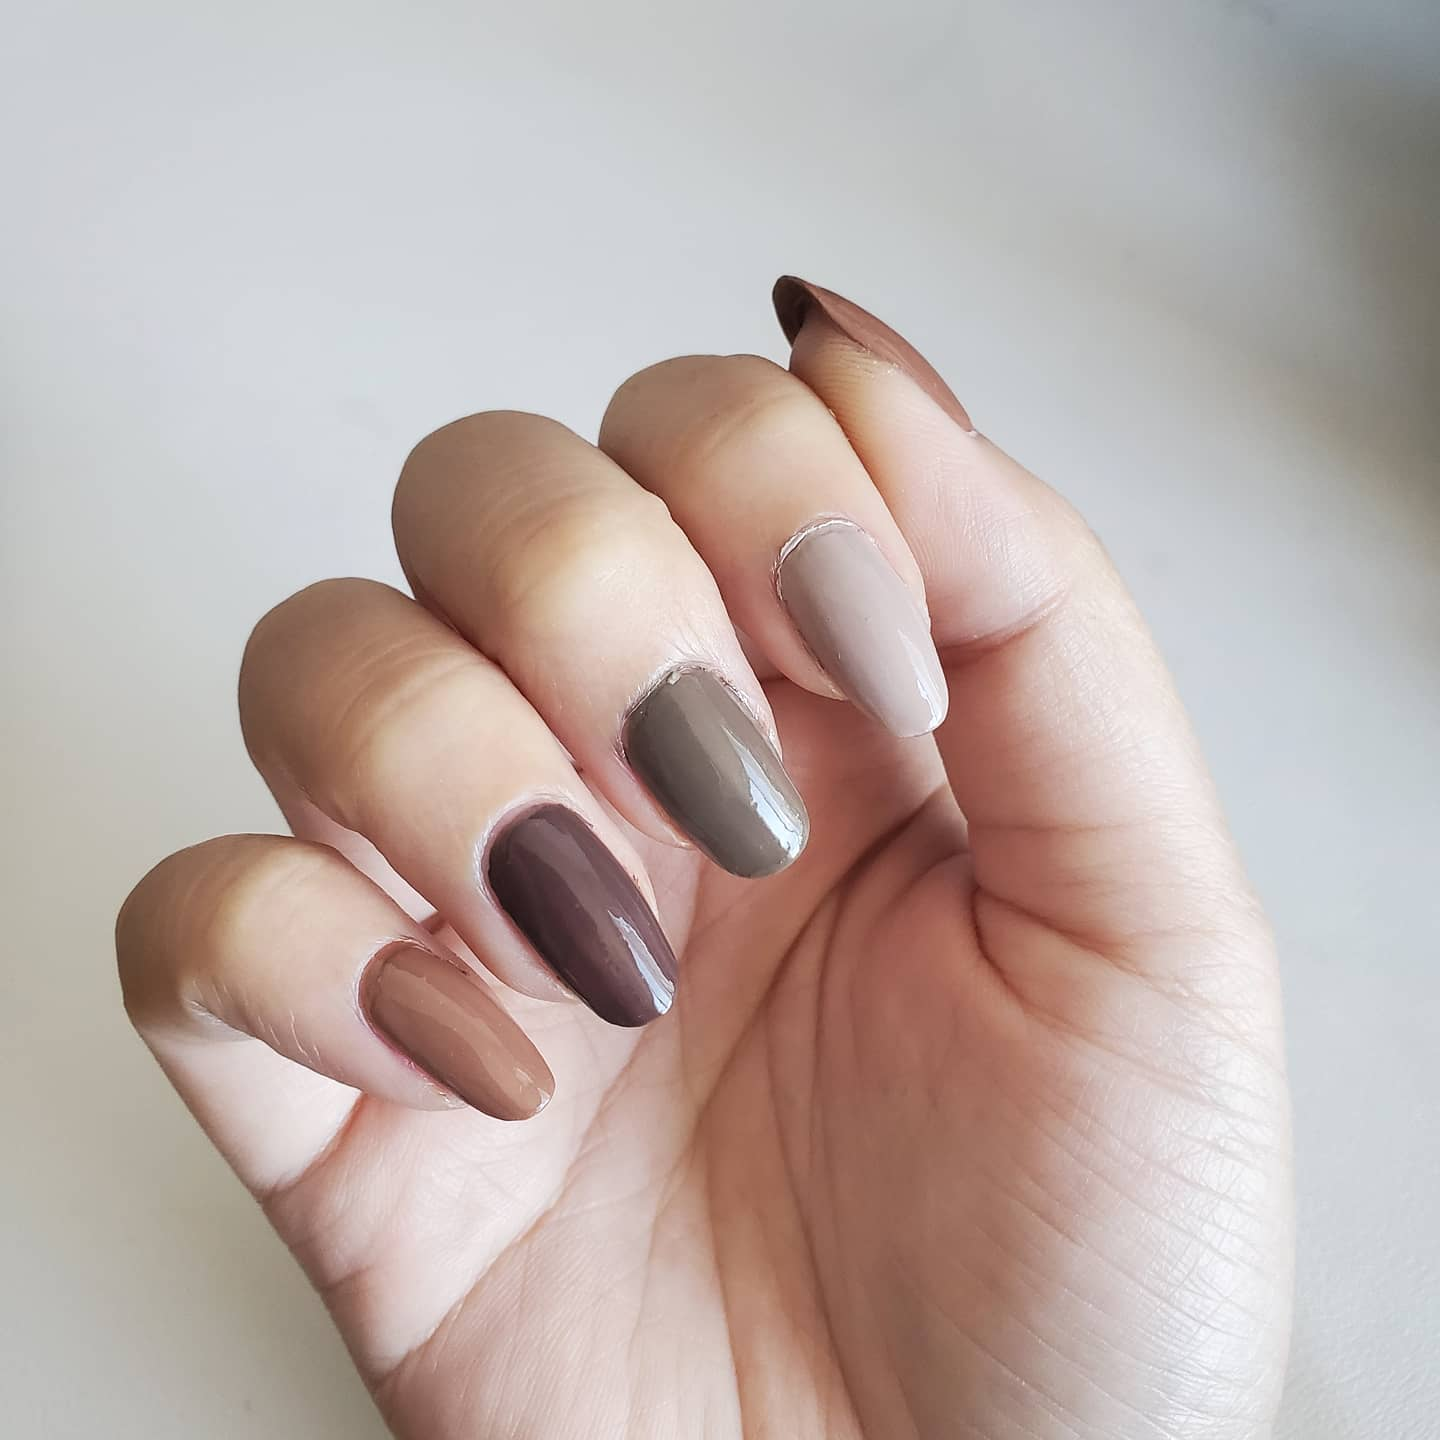nails: (463, 789, 694, 1035), (609, 651, 819, 887), (766, 505, 953, 746), (349, 928, 566, 1135), (764, 262, 980, 444)
